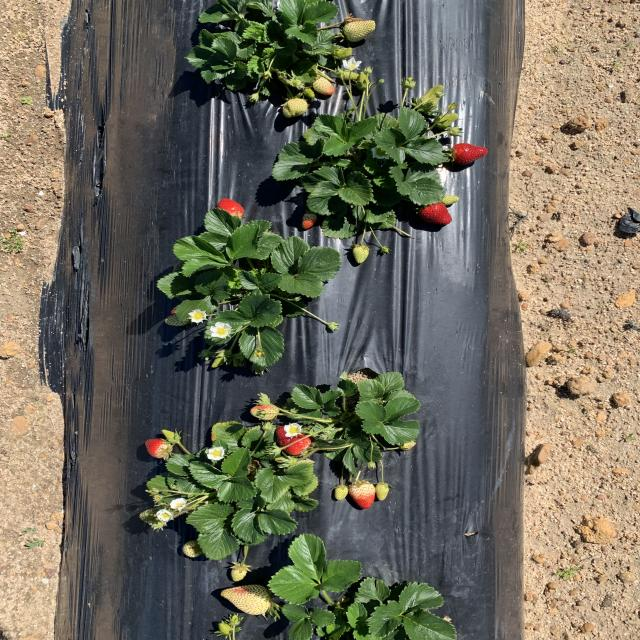unripe: (276, 425, 312, 456), (419, 201, 453, 225), (453, 142, 489, 164), (218, 198, 245, 218), (145, 439, 173, 458)
